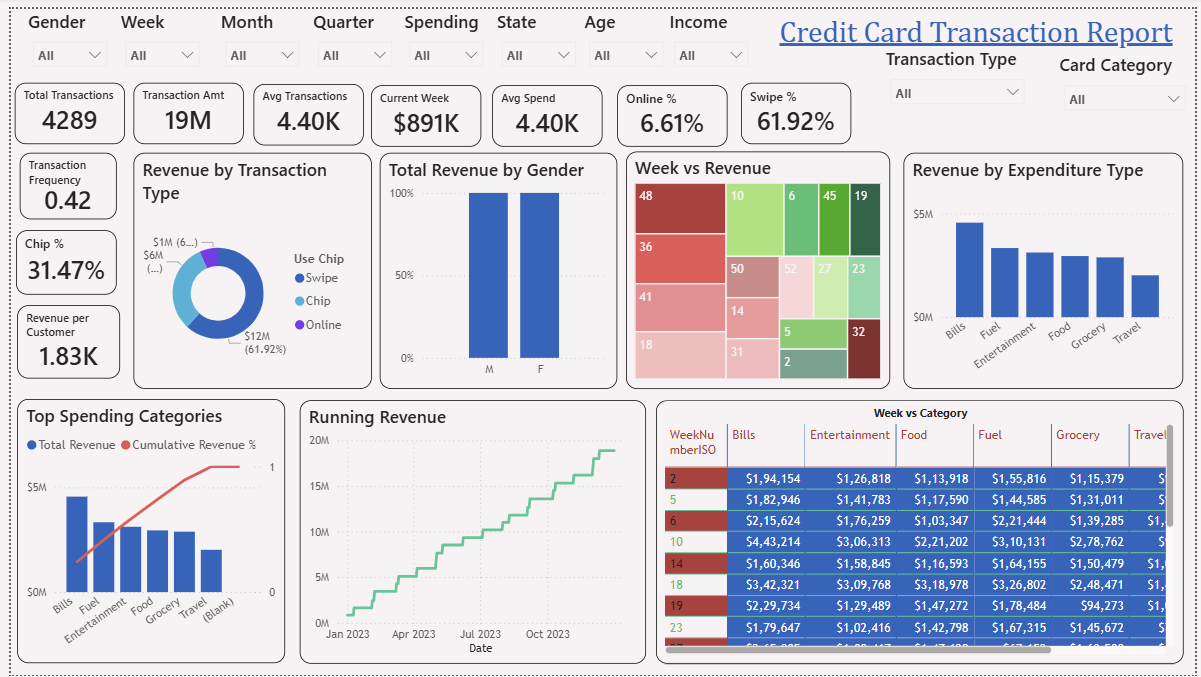

The dashboard page shown, as its layout file describes it:
{"tool":"powerbi","page":{"name":"Transaction Report","canvas":[1280,720],"ordinal":1},"visuals":[{"type":"textbox","box":[806.4,0,473.1,61.5],"z":0},{"type":"slicer","title":"Gender","fields":{"Values":["customer.Gender"]},"box":[14.1,0,100,80.8],"z":1000},{"type":"slicer","title":"Week","fields":{"Values":["Calendar.WeekNumberISO"]},"box":[114.1,0,100,80.8],"z":2000},{"type":"slicer","title":"Month","fields":{"Values":["Calendar.MonthShort"]},"box":[221.8,0,100,79.5],"z":3000},{"type":"slicer","title":"Quarter","fields":{"Values":["Calendar.Quarter"]},"box":[321.8,0,100,67.9],"z":4000},{"type":"slicer","title":"Spending","fields":{"Values":["CreditCard.Exp Type"]},"box":[420.5,0,100,79.5],"z":5000},{"type":"slicer","title":"Transaction Type","fields":{"Values":["CreditCard.Use Chip"]},"box":[941,41,165.4,82.1],"z":6000},{"type":"slicer","title":"Card Category","fields":{"Values":["CreditCard.Card_Category"]},"box":[1128.2,47.4,151.3,73.1],"z":7000},{"type":"slicer","title":"State","fields":{"Values":["customer.state_cd"]},"box":[520.5,0,100,79.5],"z":8000},{"type":"slicer","title":"Age","fields":{"Values":["customer.Age group "]},"box":[615.4,0,100,79.5],"z":9000},{"type":"slicer","title":"Income","fields":{"Values":["customer.Income"]},"box":[706.4,0,100,79.5],"z":10000},{"type":"card","title":"Total Transactions","fields":{"Values":["CreditCard.Total transactions"]},"box":[3.8,79.5,119.2,66.7],"z":11000},{"type":"card","title":"Transaction Amt","fields":{"Values":["Sum(CreditCard.Total_Trans_Amt)"]},"box":[132.1,79.5,119.2,66.7],"z":12000},{"type":"card","title":"Avg Transactions","fields":{"Values":["Calendar.Average Transaction"]},"box":[261.5,80.8,119.2,66.7],"z":13000},{"type":"card","title":"Current Week","fields":{"Values":["Calendar.Revenue current week"]},"box":[389.7,82.1,119.2,66.7],"z":14000},{"type":"card","title":"Avg Spend","fields":{"Values":["Calendar.Average Spend"]},"box":[520.5,82.1,119.2,66.7],"z":15000},{"type":"card","title":"Transaction Frequency","fields":{"Values":["Calendar.Transaction Frequency"]},"box":[9,155.1,105.1,71.8],"z":16000},{"type":"card","title":"Online %","fields":{"Values":["Calendar.Online %"]},"box":[655.1,82.1,119.2,66.7],"z":17000},{"type":"card","title":"Swipe %","fields":{"Values":["Calendar.Swipe %"]},"box":[789.7,79.5,119.2,66.7],"z":18000},{"type":"card","title":"Revenue per Customer","fields":{"Values":["Calendar.Revenue per Customer"]},"box":[6.4,320.5,111.5,79.5],"z":19000},{"type":"card","title":"Chip %","fields":{"Values":["Calendar.Chip %"]},"box":[5.1,239.7,109,69.2],"z":20000},{"type":"donutChart","title":"Revenue by Transaction Type","fields":{"Category":["CreditCard.Use Chip"],"Y":["CreditCard.Total Revenue"]},"box":[132.1,155.1,257.7,255.1],"z":21000},{"type":"columnChart","title":" Revenue by Expenditure Type","fields":{"Category":["CreditCard.Exp Type"],"Y":["CreditCard.Total Revenue"]},"box":[965.4,155.1,302.6,255.1],"z":22000},{"type":"hundredPercentStackedColumnChart","fields":{"Category":["customer.Gender"],"Y":["CreditCard.Total Revenue"]},"box":[398.7,155.1,256.4,255.1],"z":23000},{"type":"lineStackedColumnComboChart","title":"Top Spending Categories","fields":{"Y":["CreditCard.Total Revenue"],"Y2":["Calendar.Cumulative Revenue %"],"Category":["CreditCard.Exp Type"]},"box":[6.4,421.8,289.7,285.9],"z":24000},{"type":"lineChart","title":"Week vs Revenue","fields":{"Category":["Calendar.WeekNumberISO"],"Y":["CreditCard.Total Revenue"]},"box":[665.4,153.8,285.9,256.4],"z":25000},{"type":"lineChart","title":"Running Revenue","fields":{"Category":["Calendar.Date"],"Y":["Calendar.Running Revenue"]},"box":[311.5,423.1,374.4,284.6],"z":26000},{"type":"pivotTable","title":"Week vs Category","fields":{"Rows":["Calendar.WeekNumberISO"],"Columns":["CreditCard.Exp Type"],"Values":["CreditCard.Total Revenue"]},"box":[697.4,423.1,570.5,284.6],"z":27000}]}

Visuals, with their boxes in screenshot pixels (x1, y1, x2, y2), scaled from the page's 1280x720 canvas onto the 1201x677 screenshot:
textbox: (757, 0, 1200, 58)
"Gender" slicer: (13, 0, 107, 76)
"Week" slicer: (107, 0, 201, 76)
"Month" slicer: (208, 0, 302, 75)
"Quarter" slicer: (302, 0, 396, 64)
"Spending" slicer: (395, 0, 488, 75)
"Transaction Type" slicer: (883, 39, 1038, 116)
"Card Category" slicer: (1059, 45, 1200, 113)
"State" slicer: (488, 0, 582, 75)
"Age" slicer: (577, 0, 671, 75)
"Income" slicer: (663, 0, 757, 75)
"Total Transactions" card: (4, 75, 115, 137)
"Transaction Amt" card: (124, 75, 236, 137)
"Avg Transactions" card: (245, 76, 357, 139)
"Current Week" card: (366, 77, 477, 140)
"Avg Spend" card: (488, 77, 600, 140)
"Transaction Frequency" card: (8, 146, 107, 213)
"Online %" card: (615, 77, 727, 140)
"Swipe %" card: (741, 75, 853, 137)
"Revenue per Customer" card: (6, 301, 111, 376)
"Chip %" card: (5, 225, 107, 290)
"Revenue by Transaction Type" donutChart: (124, 146, 366, 386)
" Revenue by Expenditure Type" columnChart: (906, 146, 1190, 386)
hundredPercentStackedColumnChart - customer.Gender x CreditCard.Total Revenue: (374, 146, 615, 386)
"Top Spending Categories" lineStackedColumnComboChart: (6, 397, 278, 665)
"Week vs Revenue" lineChart: (624, 145, 893, 386)
"Running Revenue" lineChart: (292, 398, 644, 665)
"Week vs Category" pivotTable: (654, 398, 1190, 665)
